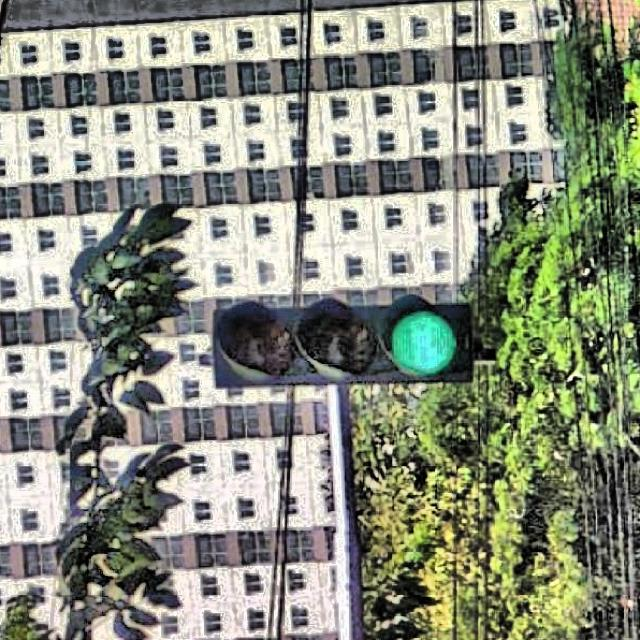green: (215, 300, 476, 391)
